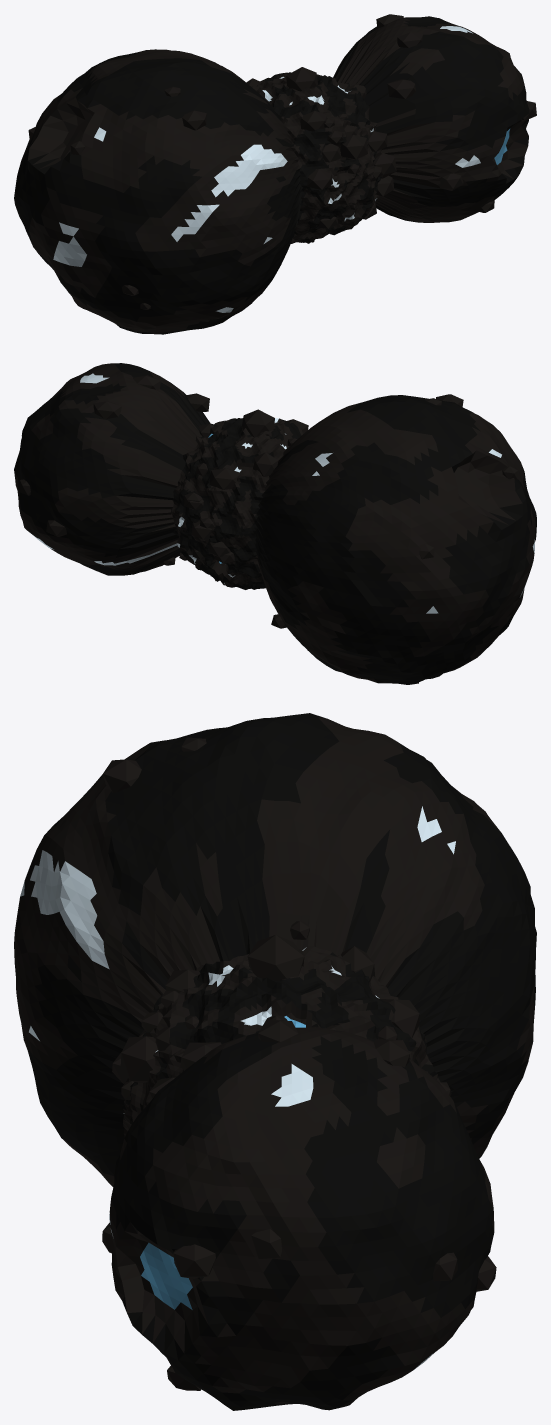
The model's file is CELESTIAL_12_CometNucleus.obj.
The picture shows the model from 3 angles, top to bottom: view 1: azimuth 30°, elevation 25°; view 2: azimuth 150°, elevation 25°; view 3: azimuth 270°, elevation 25°; orthographic projection. The views are drawn at different scales.
Parts seen in each view (by area): view 1: CELESTIAL_12_CometNucleus_Nucleus, CELESTIAL_12_CometNucleus_Boulders; view 2: CELESTIAL_12_CometNucleus_Nucleus, CELESTIAL_12_CometNucleus_Boulders; view 3: CELESTIAL_12_CometNucleus_Nucleus, CELESTIAL_12_CometNucleus_Boulders.
Part boxes in pixels (x1,y1,x2,y2): CELESTIAL_12_CometNucleus_Nucleus: (14, 16, 529, 334); CELESTIAL_12_CometNucleus_Boulders: (28, 14, 536, 309); CELESTIAL_12_CometNucleus_Nucleus: (14, 363, 536, 684); CELESTIAL_12_CometNucleus_Boulders: (18, 375, 517, 684); CELESTIAL_12_CometNucleus_Nucleus: (14, 713, 536, 1410); CELESTIAL_12_CometNucleus_Boulders: (102, 737, 496, 1390).
Bounding box in the file's own units: 3.41 × 1.76 × 1.72.
